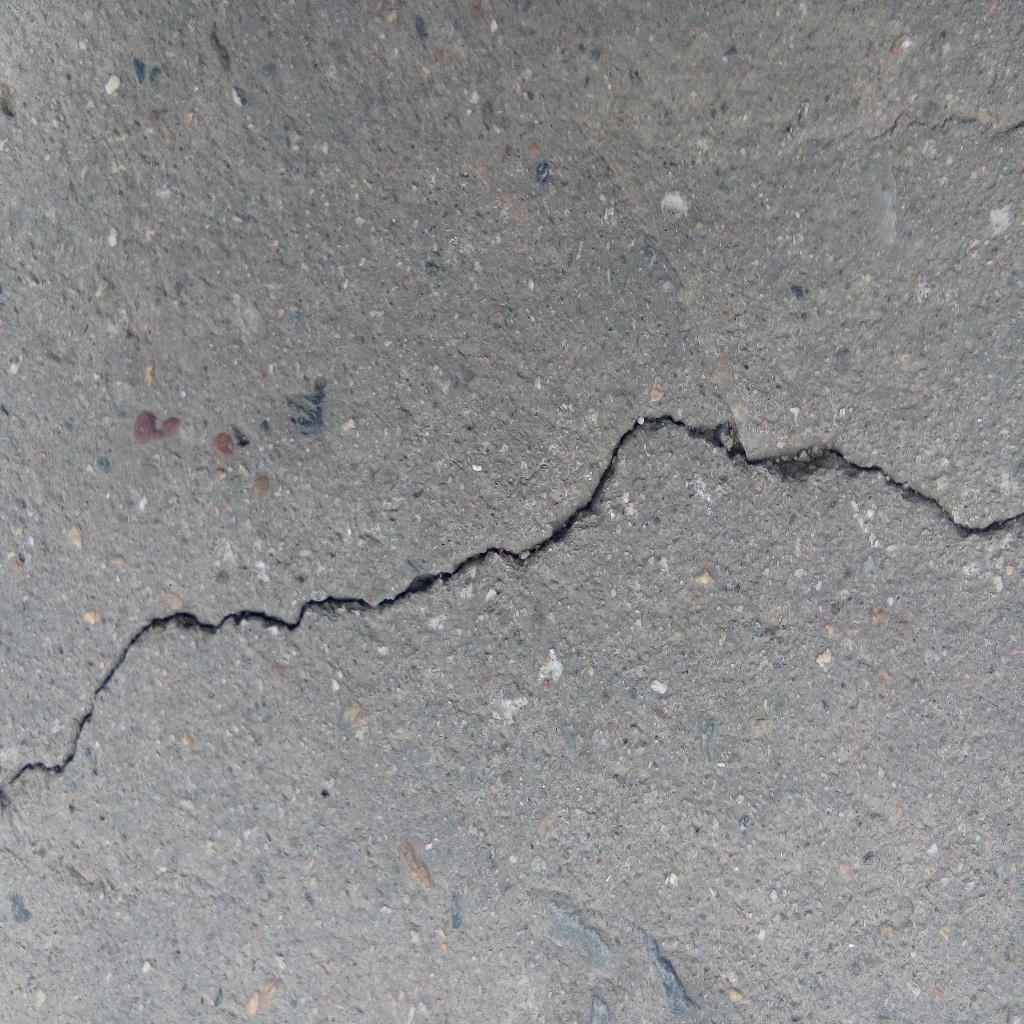Crack: (1, 412, 1024, 788)
